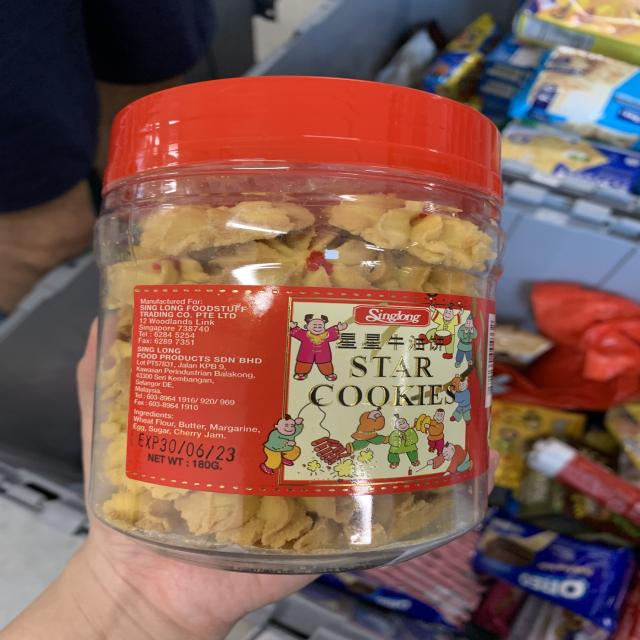object_name: (117, 102, 479, 533)
